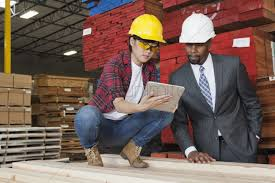Person_wearing_helmet: (175, 10, 215, 46), (125, 13, 164, 49)
